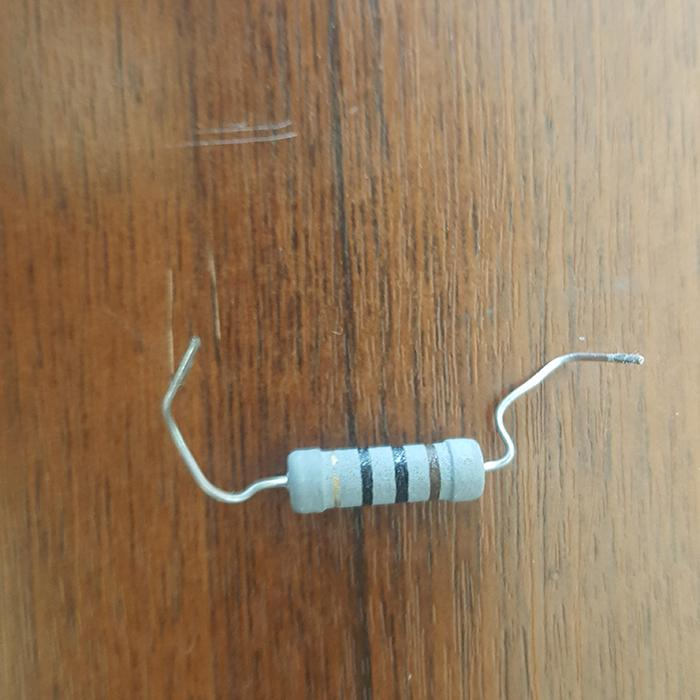resistor: (283, 435, 488, 512)
